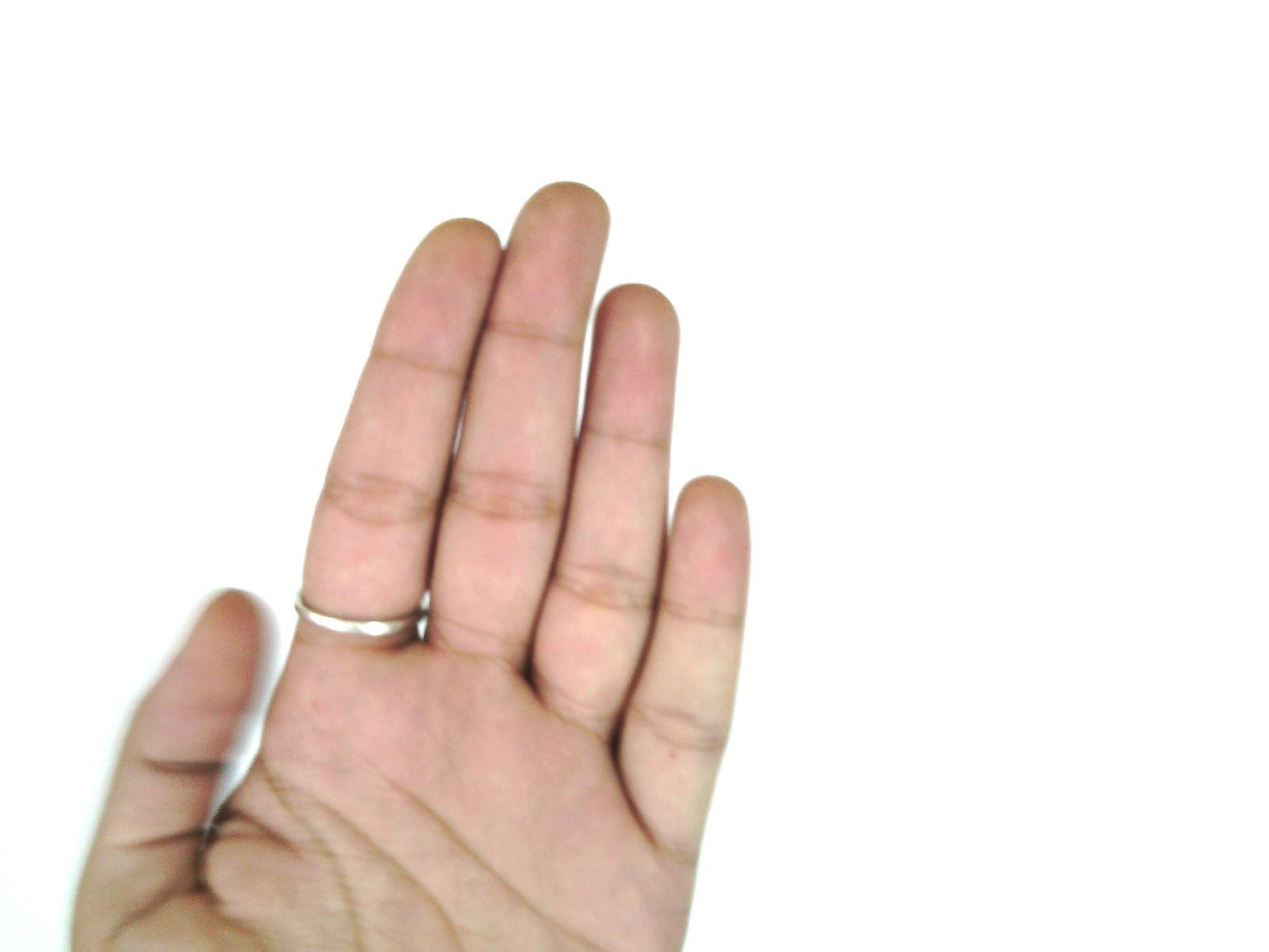open_palm: (67, 180, 755, 952)
